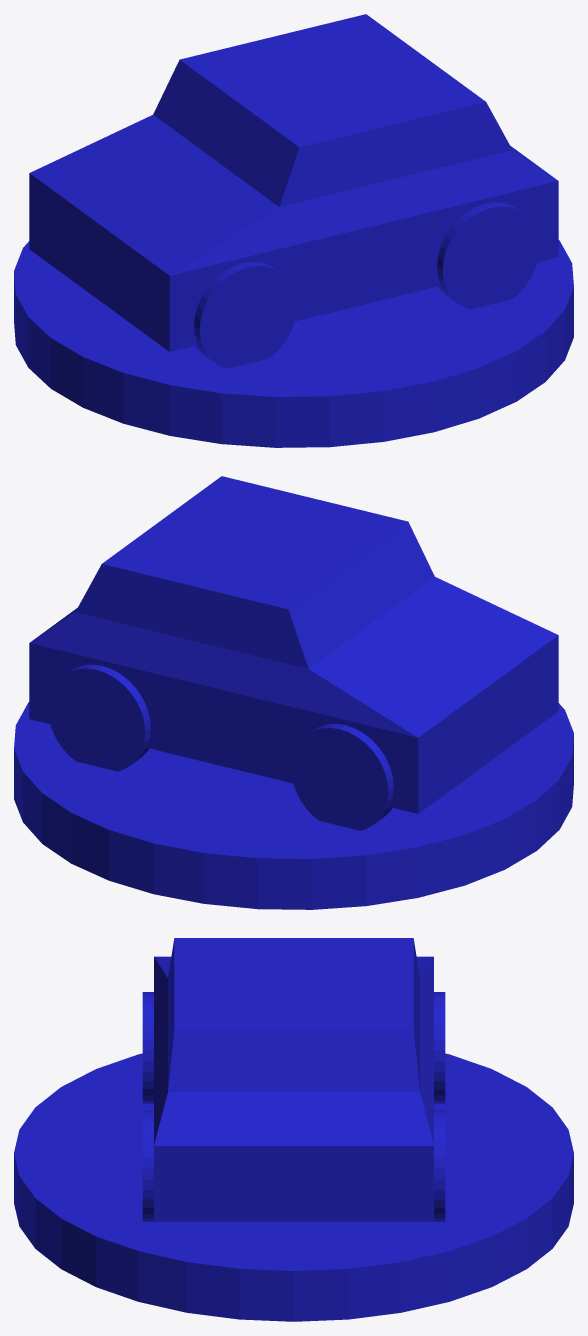
The model's file is car.dae.
3 views of the same model, one above another, from view 1: azimuth 30°, elevation 25°; view 2: azimuth 150°, elevation 25°; view 3: azimuth 270°, elevation 25° (orthographic).
Parts seen in each view (by area): view 1: Car; view 2: Car; view 3: Car.
Boxes of the visible parts, x1,y1,x2,y2 form: Car: [14, 14, 573, 447]; Car: [14, 476, 573, 909]; Car: [14, 938, 573, 1321].
Bounding box in the file's own units: 1000 × 1000 × 471.
